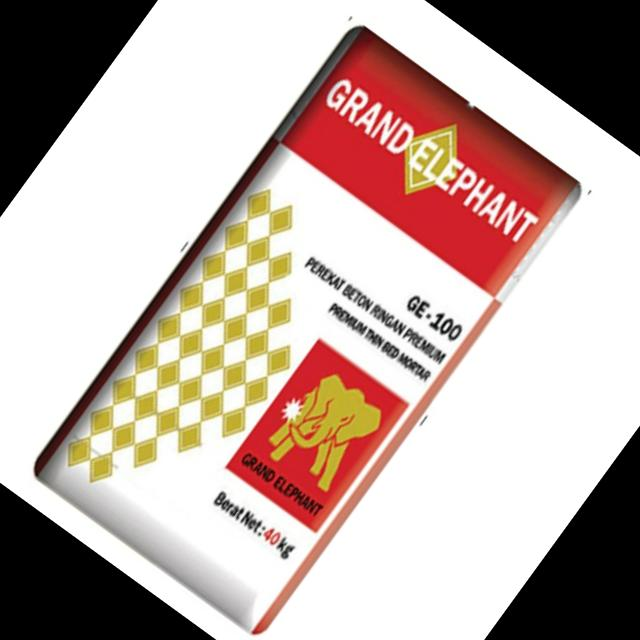KantongSemen: (18, 15, 589, 640)
